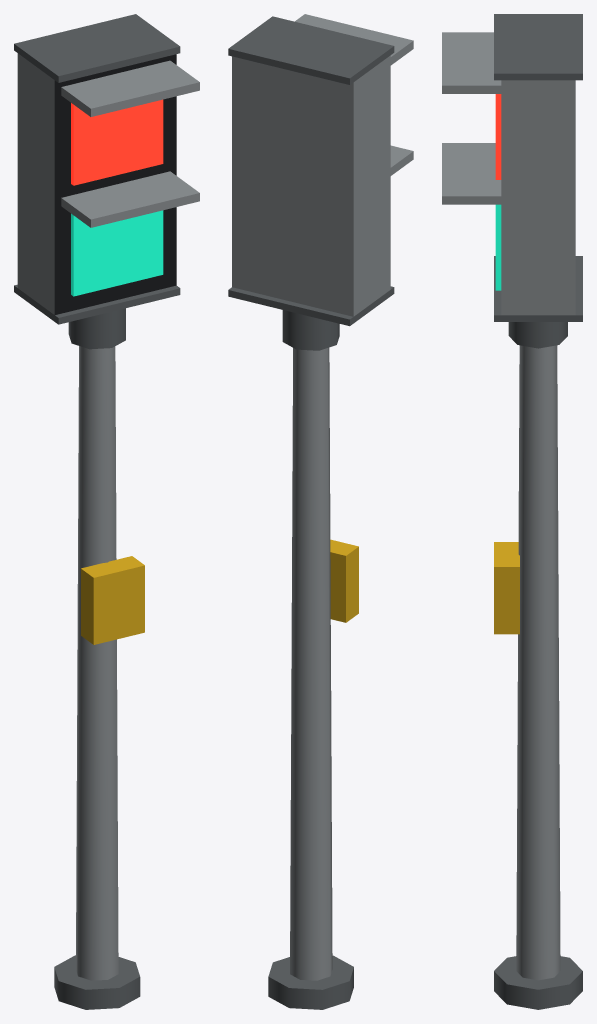
File: tokyo_pedestrian_signal.glb
The picture shows the model from 3 angles, left to right: view 1: azimuth 30°, elevation 25°; view 2: azimuth 150°, elevation 25°; view 3: azimuth 270°, elevation 25°; orthographic projection.
Visible parts, largest first — view 1: tokyo_pedestrian_signal; view 2: tokyo_pedestrian_signal; view 3: tokyo_pedestrian_signal.
Part boxes in pixels (x1,y1,x2,y2): tokyo_pedestrian_signal: (14,14,199,1009); tokyo_pedestrian_signal: (228,14,413,1009); tokyo_pedestrian_signal: (442,14,582,1009).
Size of the model in its own units: 0.38 by 2.82 by 0.38.
1 material, 1 textured.
